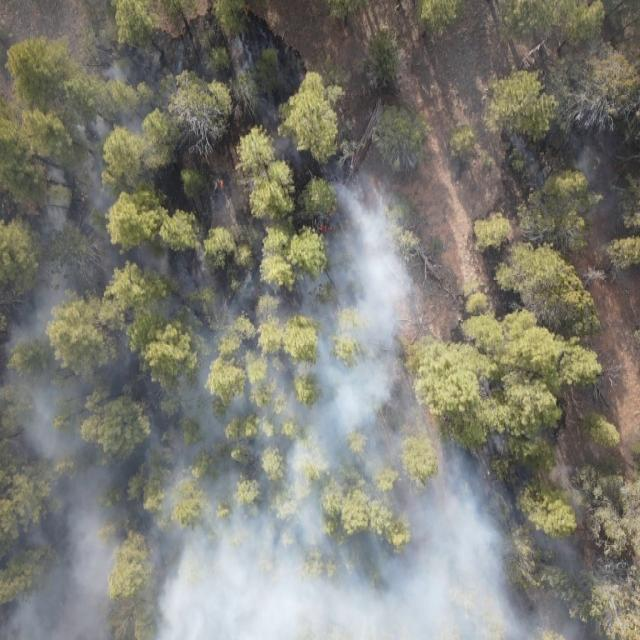fire: (316, 203, 338, 232), (214, 175, 227, 191)
smoke: (0, 0, 163, 640), (268, 174, 426, 640), (163, 19, 267, 640), (523, 457, 640, 640), (426, 426, 522, 640), (541, 144, 619, 223), (268, 125, 308, 174)
